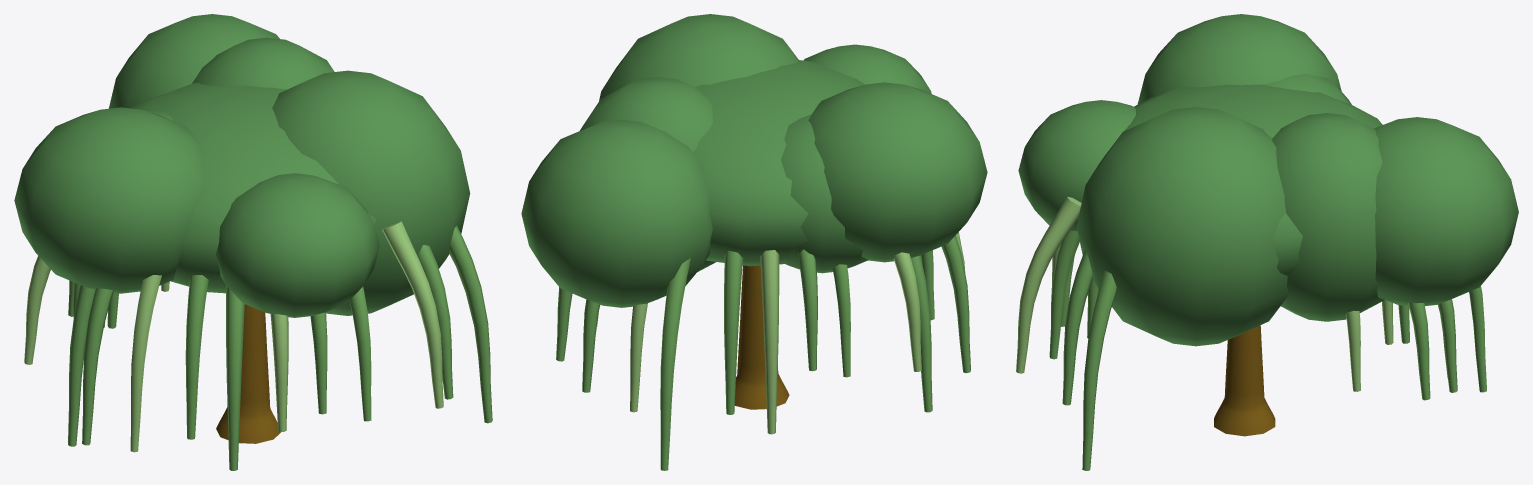
File: willow_0.glb
3 renders of one model, left to right at view 1: azimuth 30°, elevation 25°; view 2: azimuth 150°, elevation 25°; view 3: azimuth 270°, elevation 25°, orthographic. The views are drawn at different scales.
Visible parts, largest first — view 1: crown, trunk; view 2: crown, trunk; view 3: crown, trunk.
Part boxes in pixels (x1,y1,x2,y2): crown: (14, 14, 492, 470); trunk: (216, 304, 280, 443); crown: (521, 14, 987, 470); trunk: (734, 265, 789, 409); crown: (1016, 14, 1518, 470); trunk: (1214, 325, 1275, 436).
Size of the model in its own units: 2.17 by 1.8 by 2.41.
